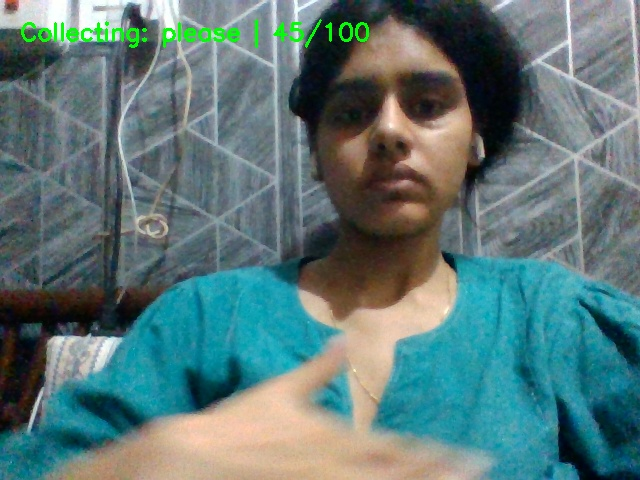please: (136, 320, 550, 480)
